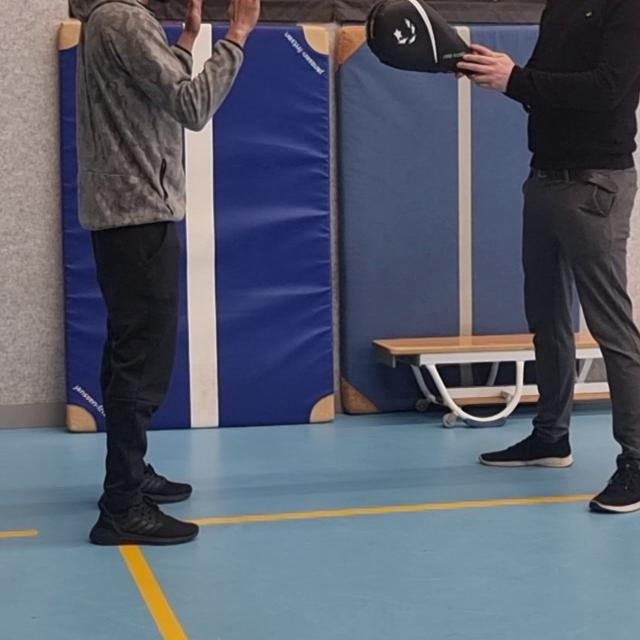paddle: (367, 0, 481, 76)
